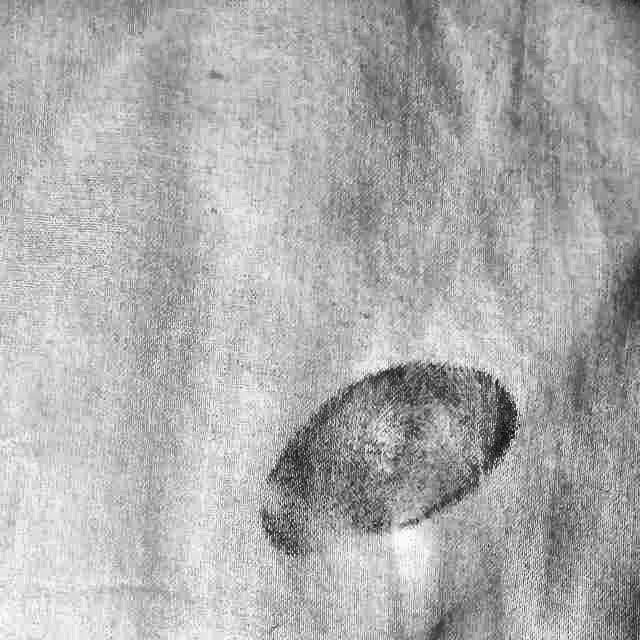Hole: (208, 321, 542, 590)
